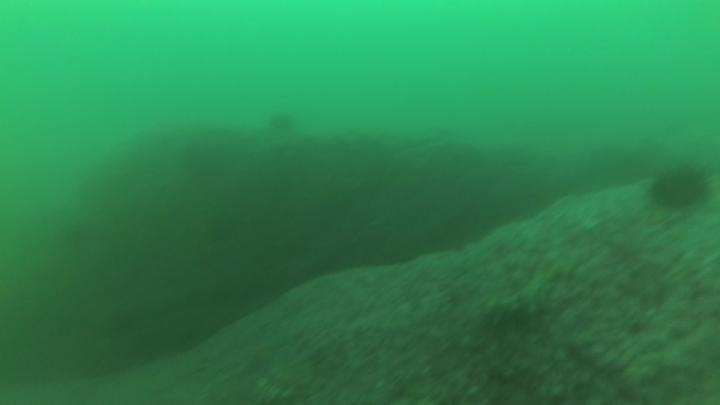echinus: (645, 159, 714, 215), (265, 108, 299, 138)
holothurian: (479, 261, 567, 329)
